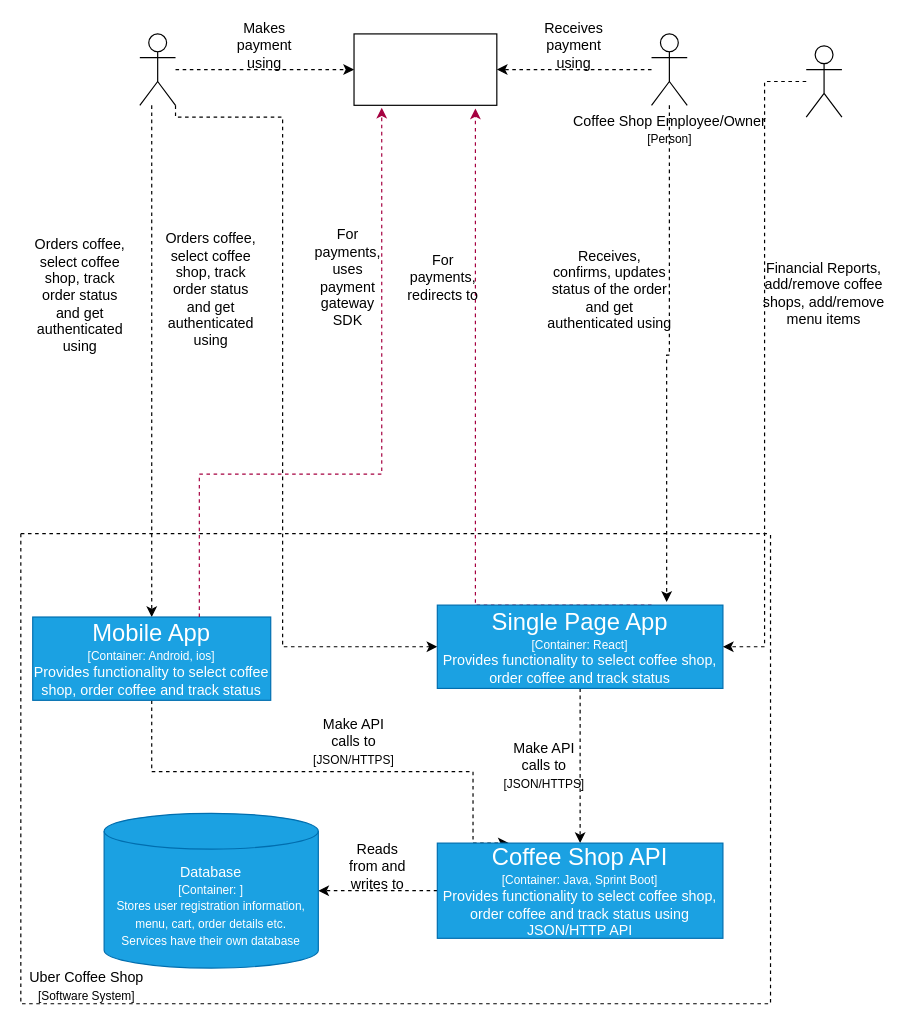
Some shapes in this 910 by 1025 pixel diagram are drawn without their labels. Each missing label, with the centre of its shape:
"Administrator" belongs at (823,81).
"Customer [Person]" belongs at (157,69).
"Payment Gateway [Software System]" belongs at (425,69).
